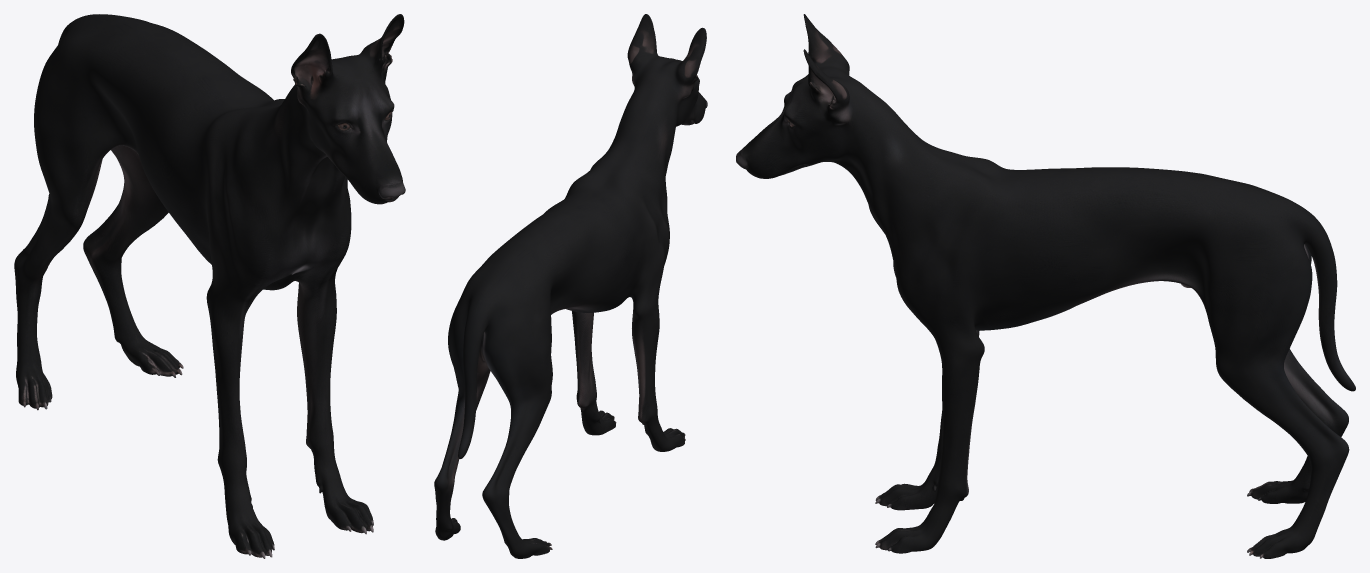
File: hund_schwarz_original.glb
3 views of the same model, side by side, from view 1: azimuth 30°, elevation 25°; view 2: azimuth 150°, elevation 25°; view 3: azimuth 270°, elevation 25° (orthographic). The views are drawn at different scales.
Bounding box in the file's own units: 0.5043 × 1.67 × 1.9.
1 material, 1 textured.
